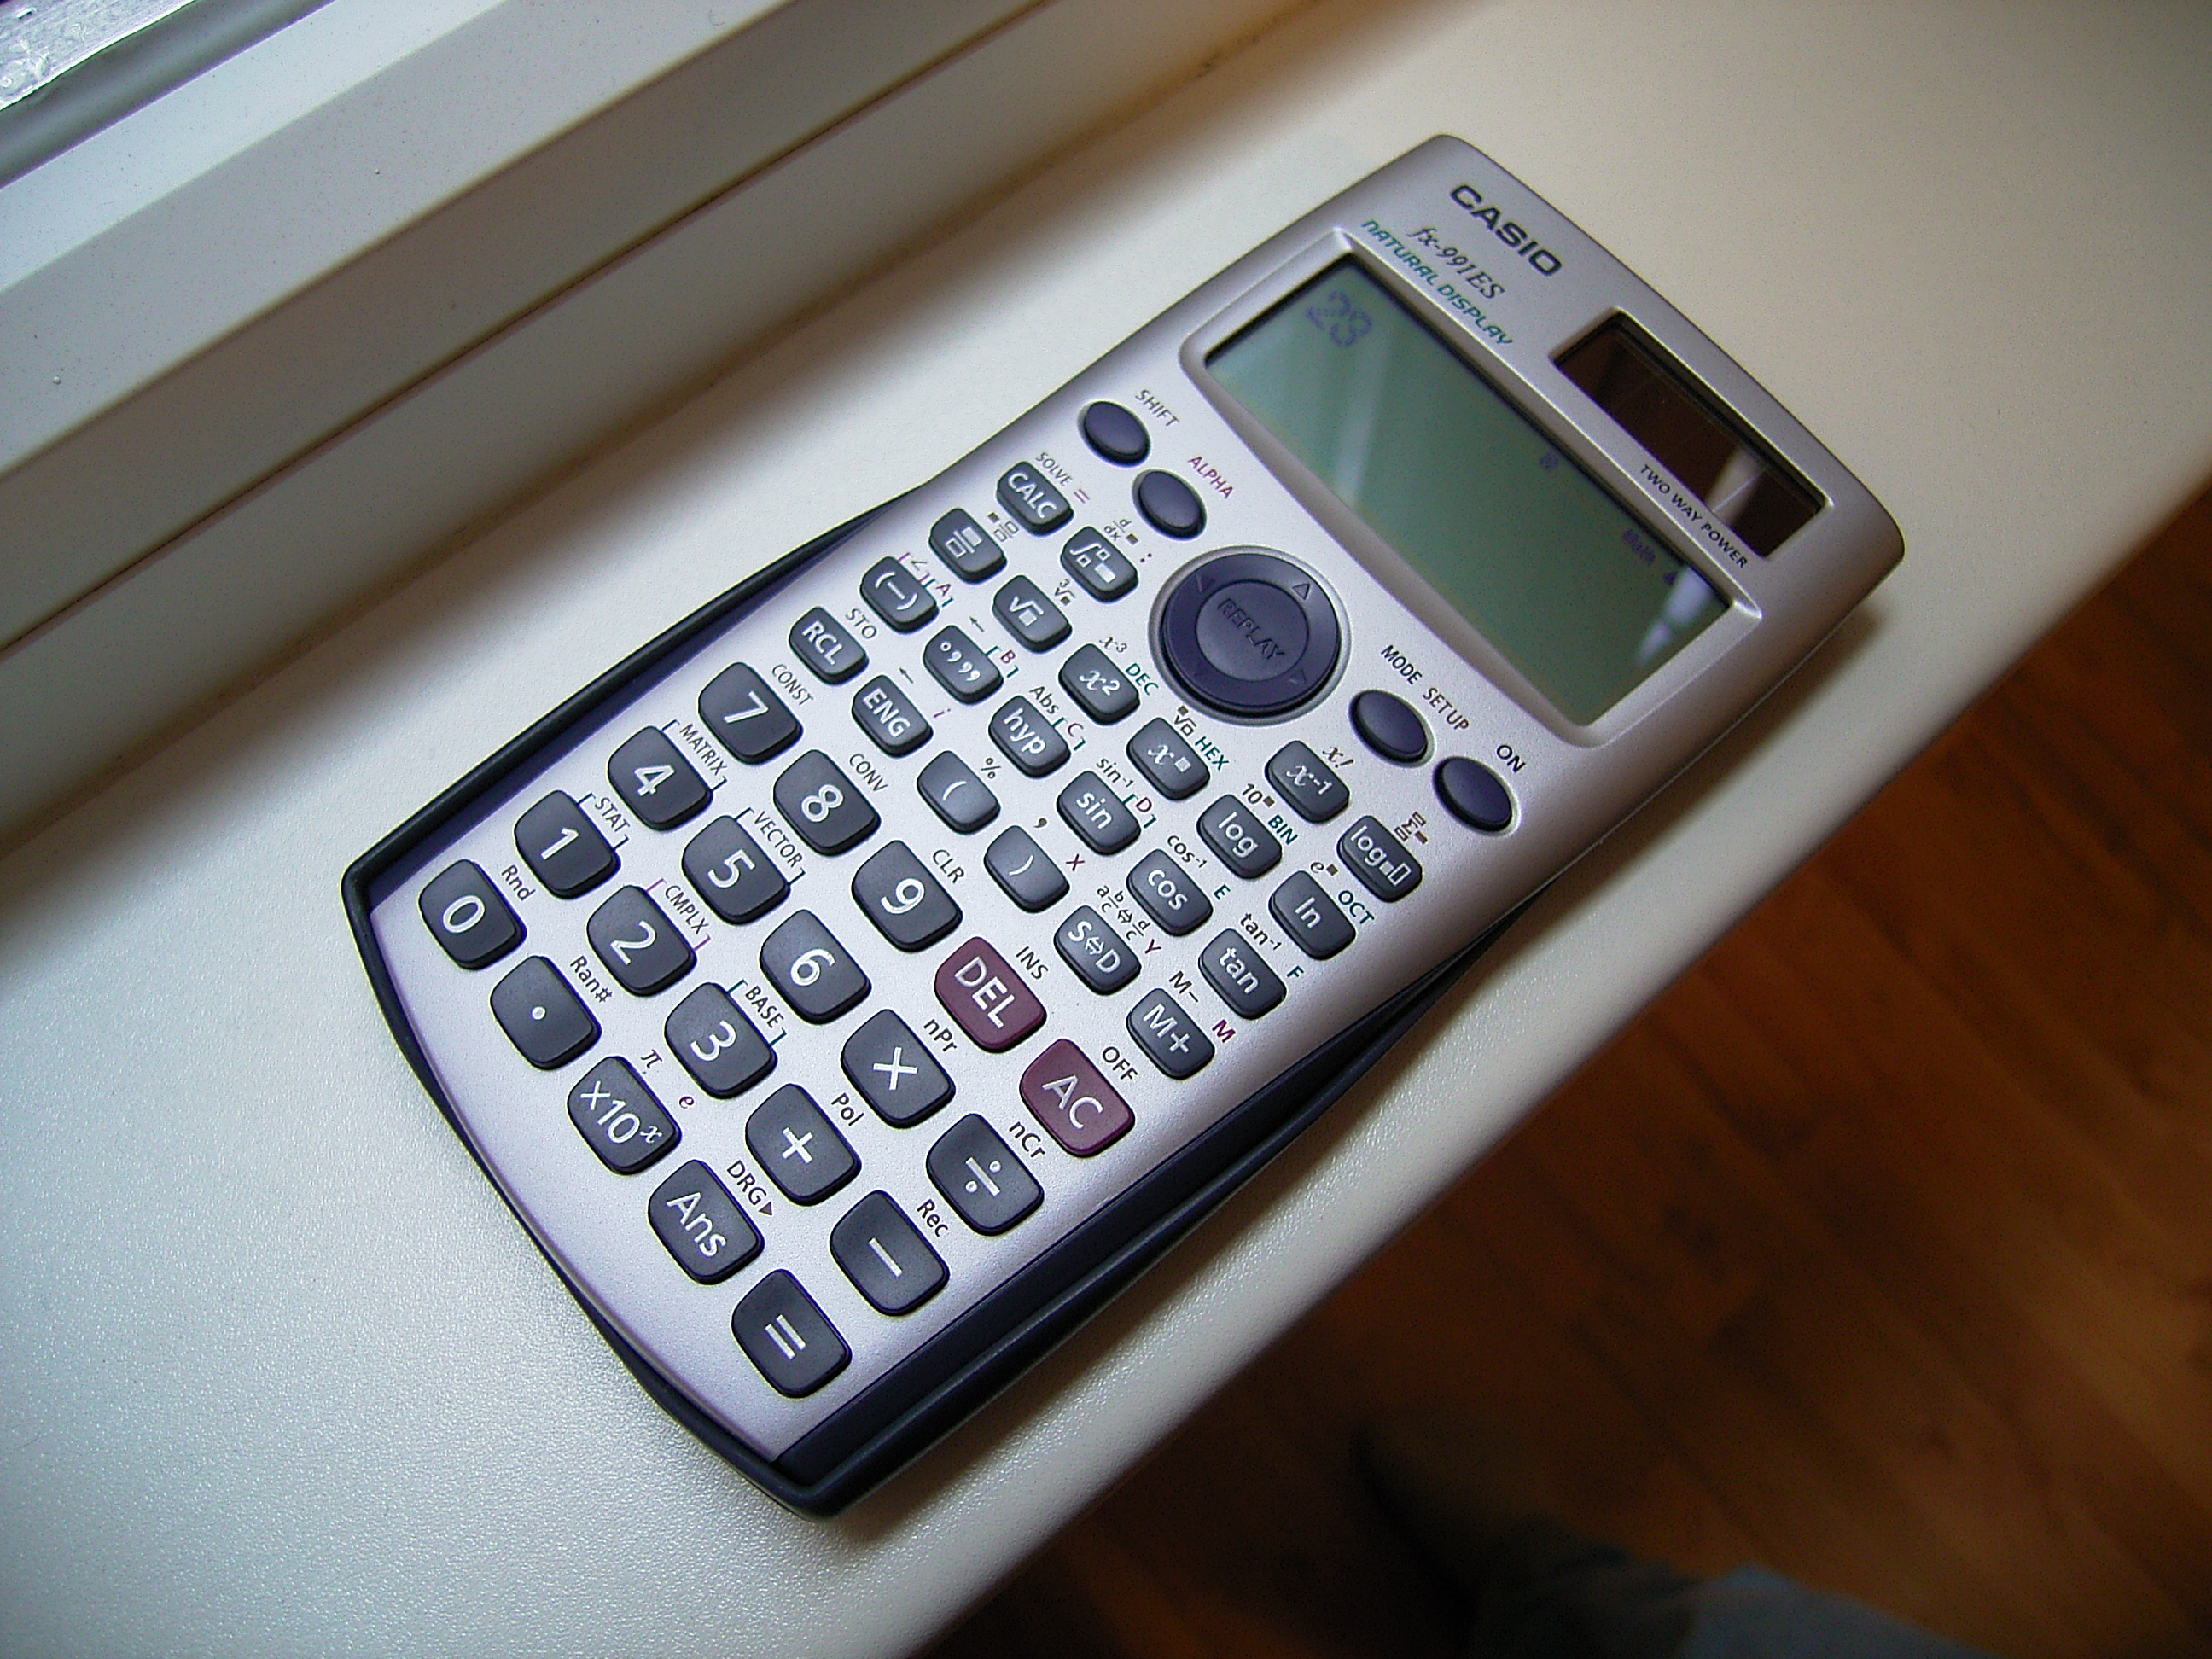Calculator: (326, 125, 1930, 1537)
